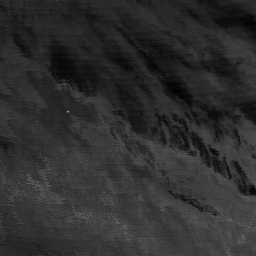Target: (63, 108, 70, 115)
